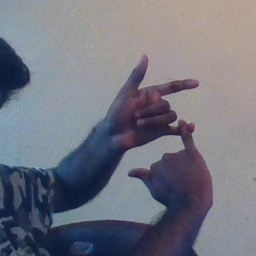S: (100, 51, 226, 203)
